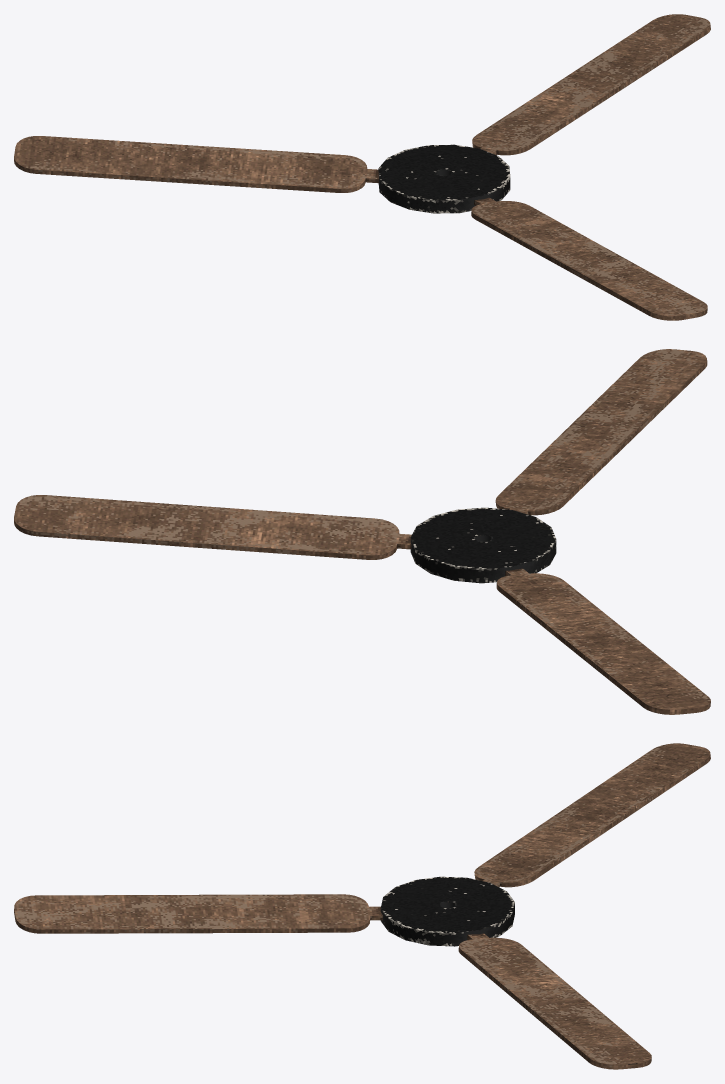
Rendered from Blades.fbx.
3 views of the same model, one above another, from view 1: azimuth 30°, elevation 25°; view 2: azimuth 150°, elevation 25°; view 3: azimuth 270°, elevation 25° (orthographic). The views are drawn at different scales.
Parts seen in each view (by area): view 1: Blades; view 2: Blades; view 3: Blades.
Boxes of the visible parts, x1=… form: Blades: x1=14, y1=14, x2=710, y2=320; Blades: x1=14, y1=349, x2=710, y2=714; Blades: x1=14, y1=743, x2=710, y2=1069.
Size of the model in its own units: 125 by 138 by 4.65.
